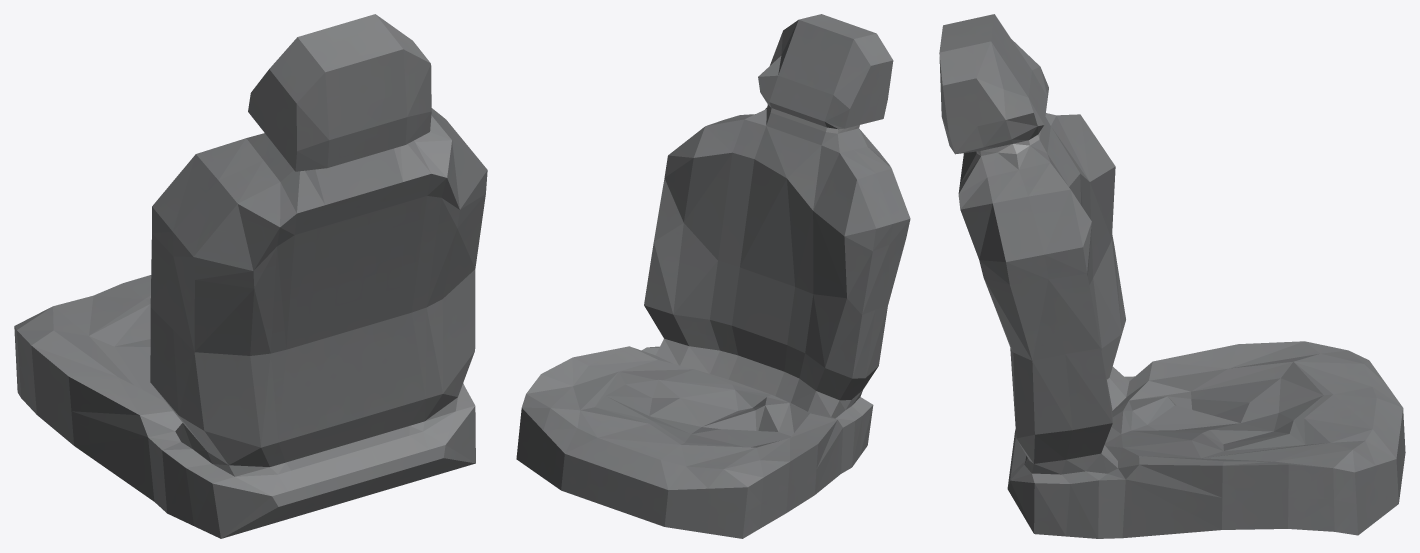
Rendered from car_seat_2.obj.
3 renders of one model, left to right at view 1: azimuth 30°, elevation 25°; view 2: azimuth 150°, elevation 25°; view 3: azimuth 270°, elevation 25°, orthographic. The views are drawn at different scales.
Visible parts, largest first — view 1: car_seat_2_Mesh; view 2: car_seat_2_Mesh; view 3: car_seat_2_Mesh.
Part boxes in pixels (box(x1,y1,x2,y2)): car_seat_2_Mesh: box(14, 14, 487, 538); car_seat_2_Mesh: box(516, 14, 910, 538); car_seat_2_Mesh: box(939, 14, 1405, 538).
Bounding box in the file's own units: 0.6599 × 0.9383 × 0.8686.
